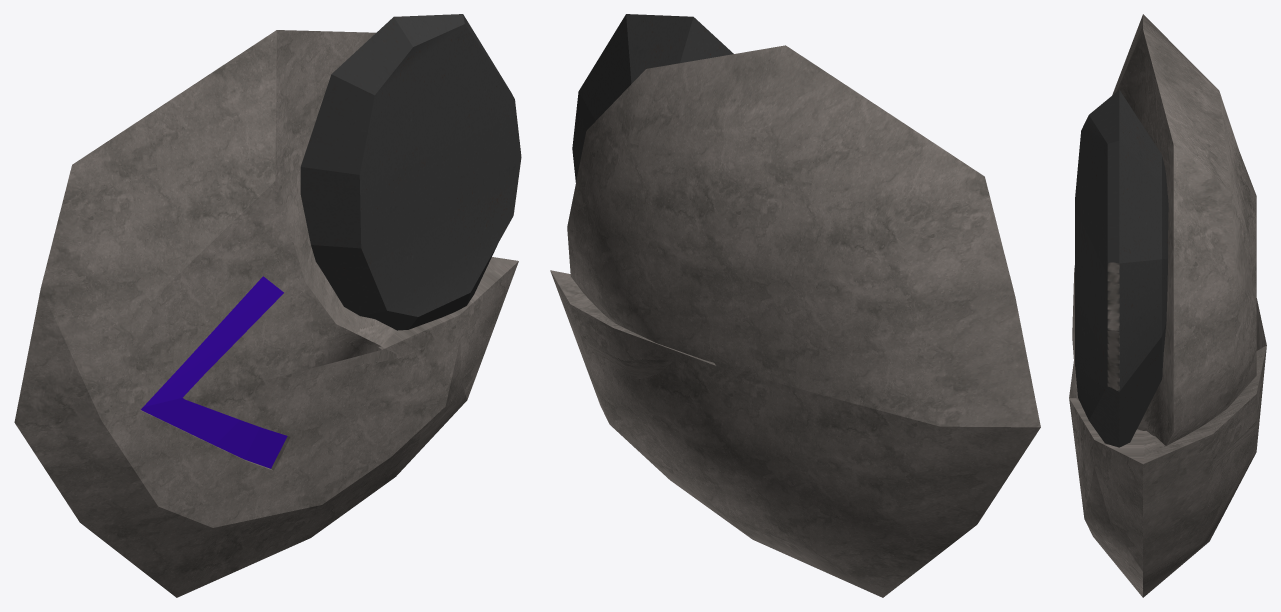
File: Debuff_Knockback.fbx
3 renders of one model, left to right at view 1: azimuth 30°, elevation 25°; view 2: azimuth 150°, elevation 25°; view 3: azimuth 270°, elevation 25°, orthographic. The views are drawn at different scales.
Visible parts, largest first — view 1: Debuff_K Rune; view 2: Debuff_K Rune; view 3: Debuff_K Rune.
Part boxes in pixels (box(x1,y1,x2,y2)): Debuff_K Rune: box(14, 14, 521, 597); Debuff_K Rune: box(550, 14, 1040, 597); Debuff_K Rune: box(1069, 14, 1266, 597).
Bounding box in the file's own units: 59.39 × 61.14 × 18.96.
1 material, 1 textured.
